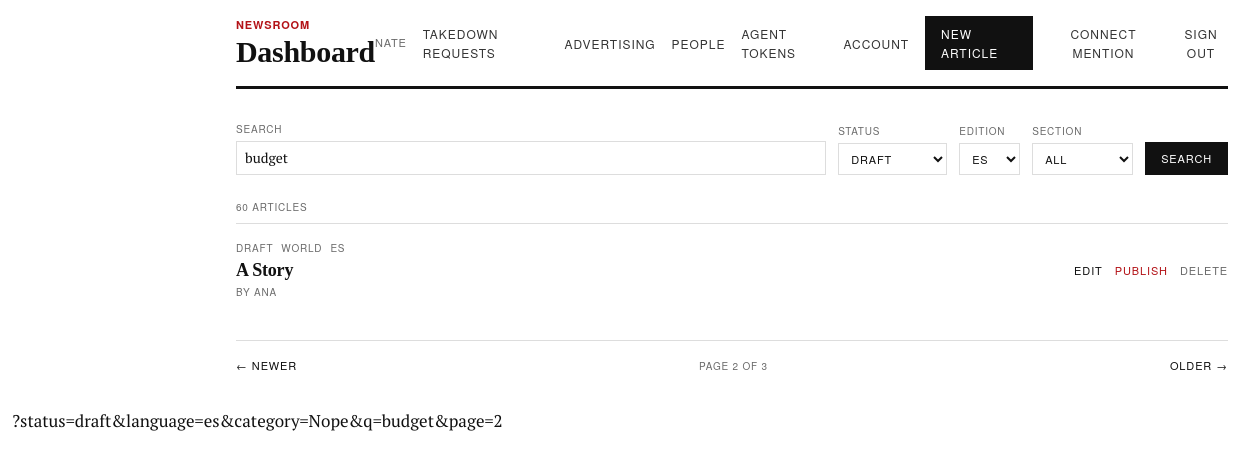
Test case: Dashboard filters › reads its filters from the URL (ignoring unknown values) and pages through results
Expected: the text "A Story" is shown, [236,260,293,280]
Expected: the text "Page 2 of 3" is shown, [699,358,768,374]
Step 1. Click the button "Older →" → {"x": 1199, "y": 366}, box [1170,357,1228,375]
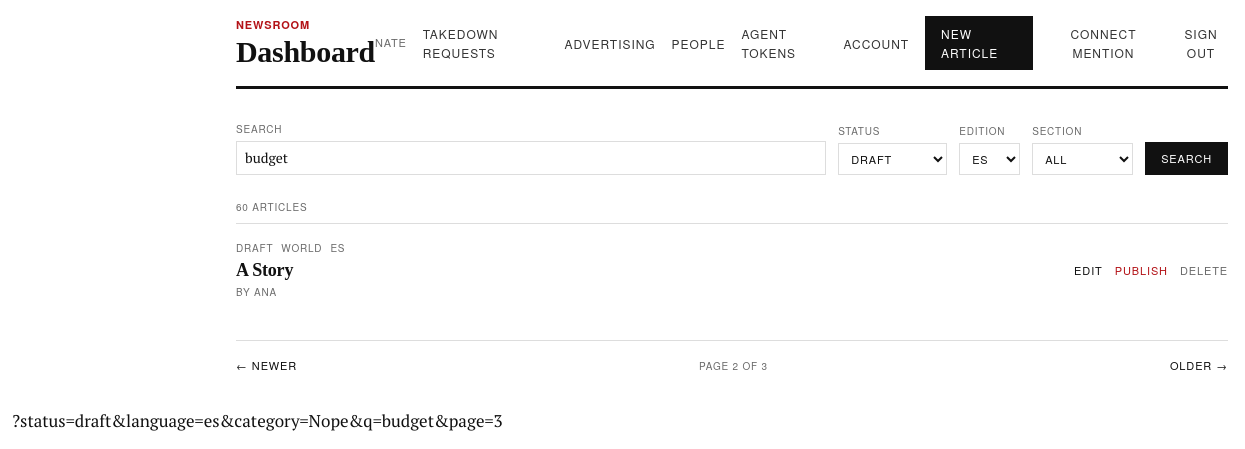
Now the text with test id "location" shows "page=3", box [12,409,503,432]
